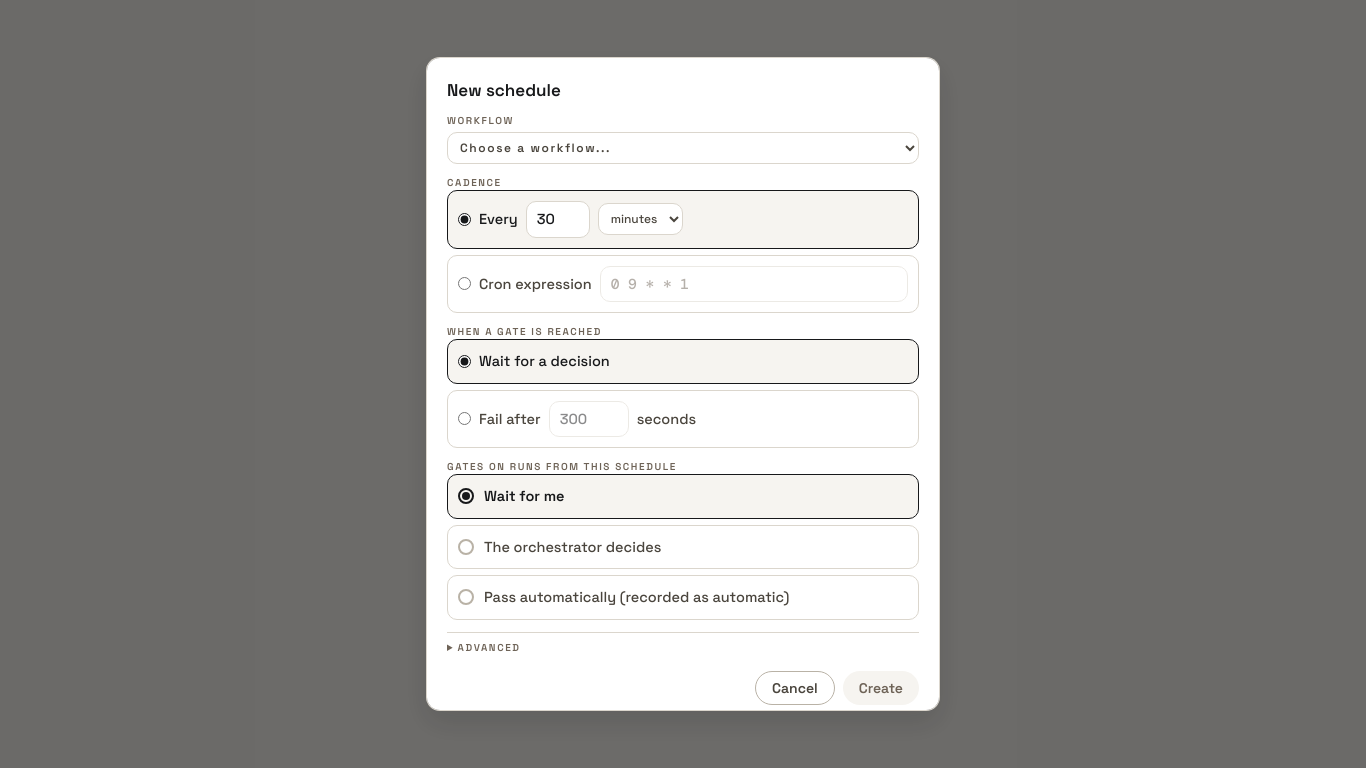
Test: ScheduleForm › offers a workflow select fed by the library when opened standalone
Step 1. Select "Fetch sales" in the dropdown labelled "Workflow" → (683, 148), box 447,132 -> 919,164
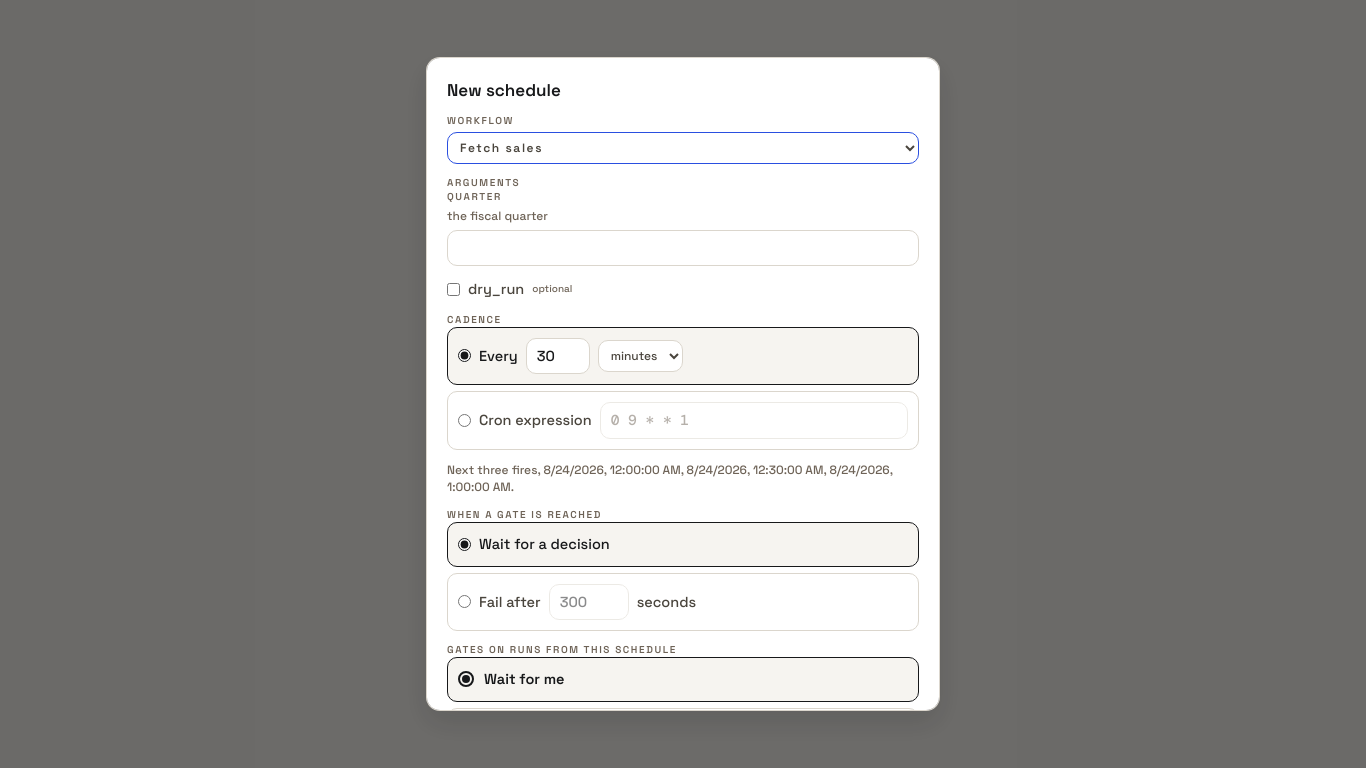
Expected: the field labelled "quarter" is shown, 447,230 -> 919,266
